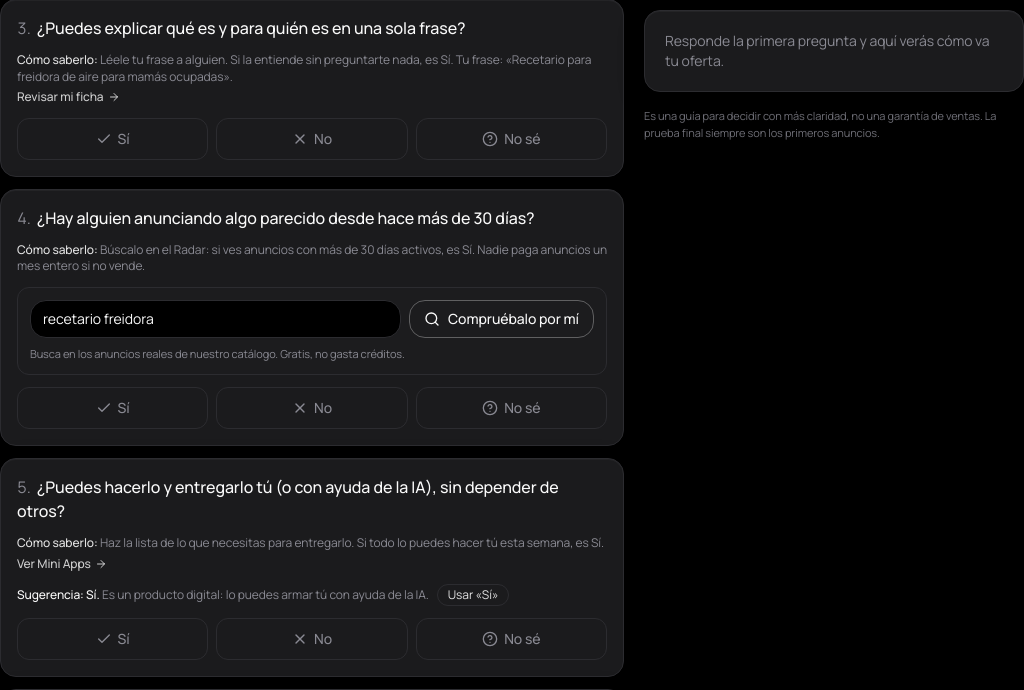
Test case: ValidationPage › «Compruébalo por mí» consulta radar_search con 30 días y marca Sí
(page scrolled)
Click the button "Compruébalo por mí": [502, 318] box [409,300,594,338]
(page scrolled)
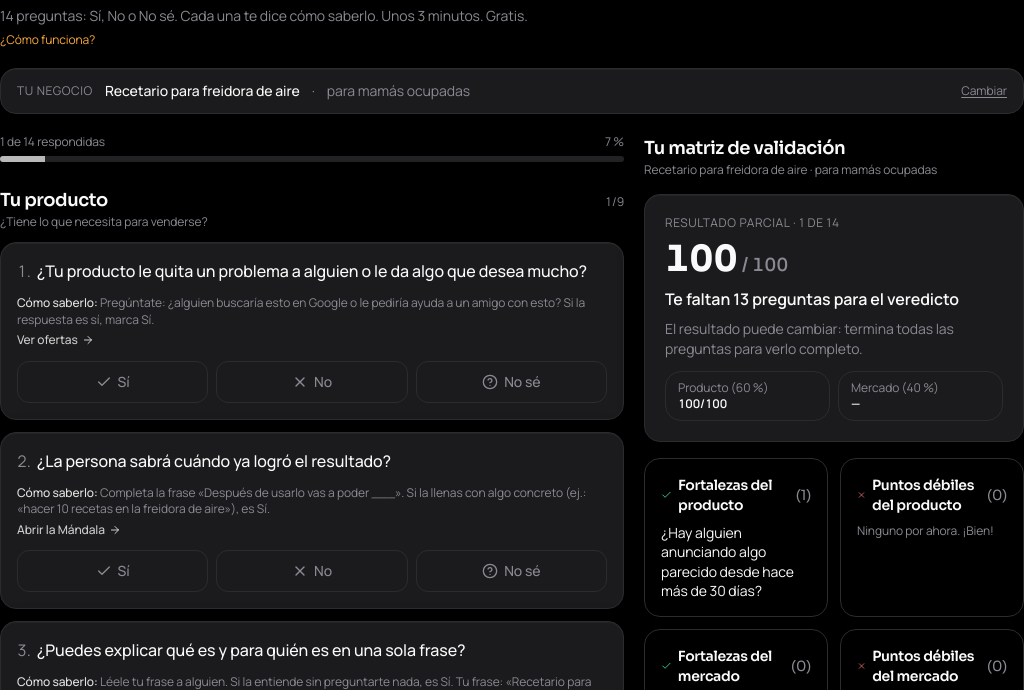
Expected: the text "1 de 14 respondidas" is shown, [0,134,105,150]
